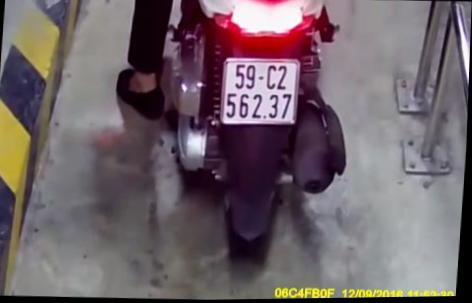LP: (219, 57, 300, 127)
